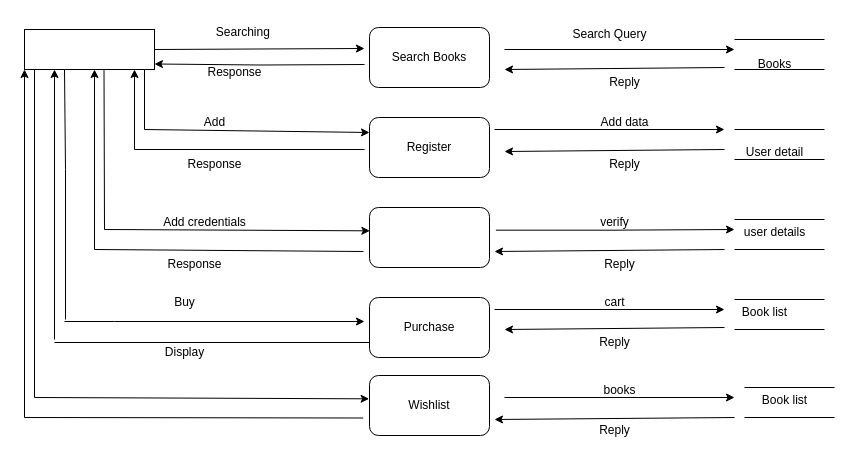
Some shapes in this 853 by 462 pixel diagram are drawn without their labels. Each missing label, with the centre of its shape:
"Login" goes at point 429,237.
"users" goes at point 89,49.
